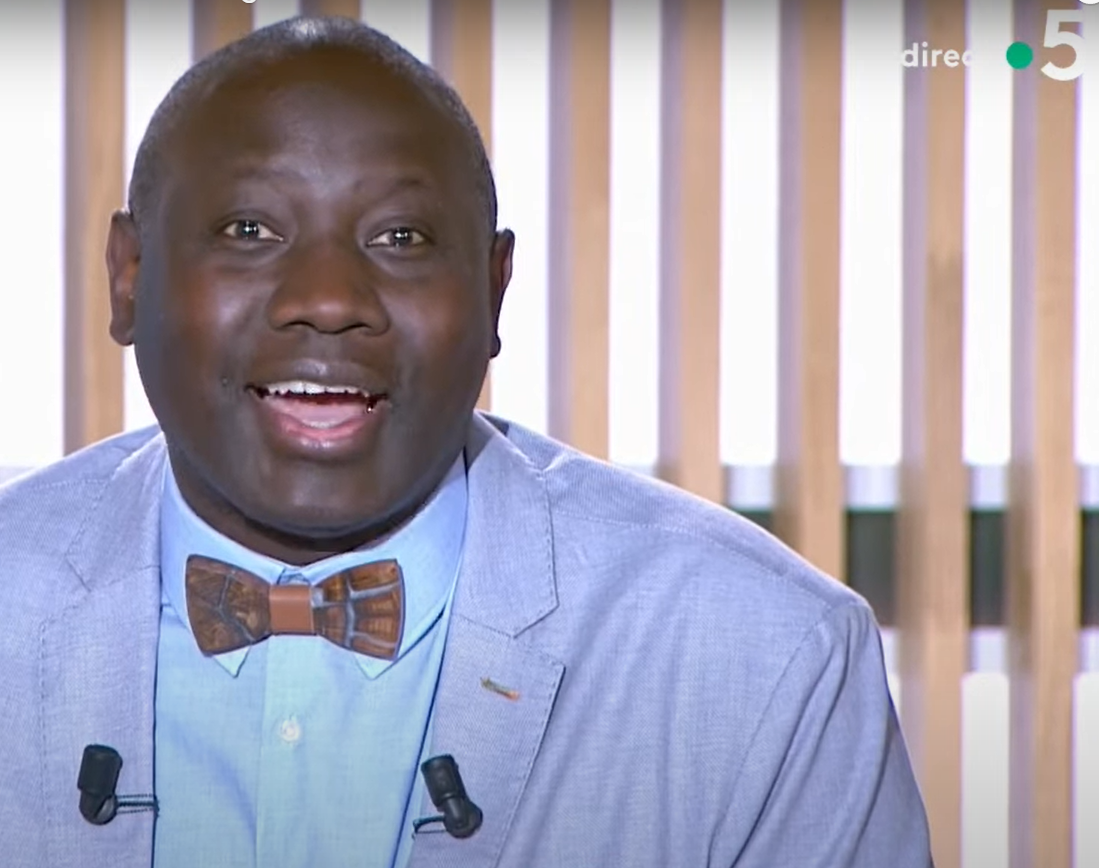without_mask: (168, 111, 464, 519)
